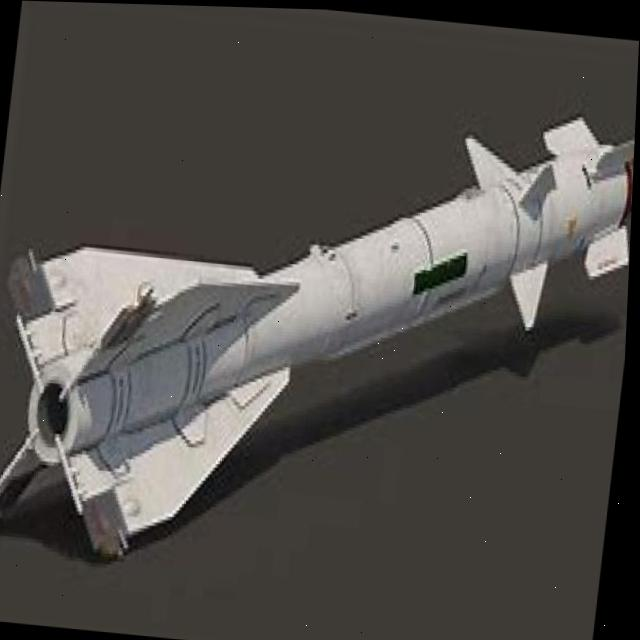missile: (0, 53, 631, 605)
